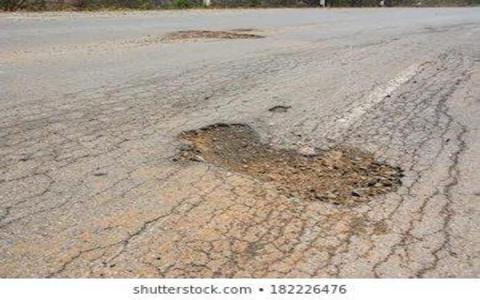patchy roads: (151, 68, 419, 260)
